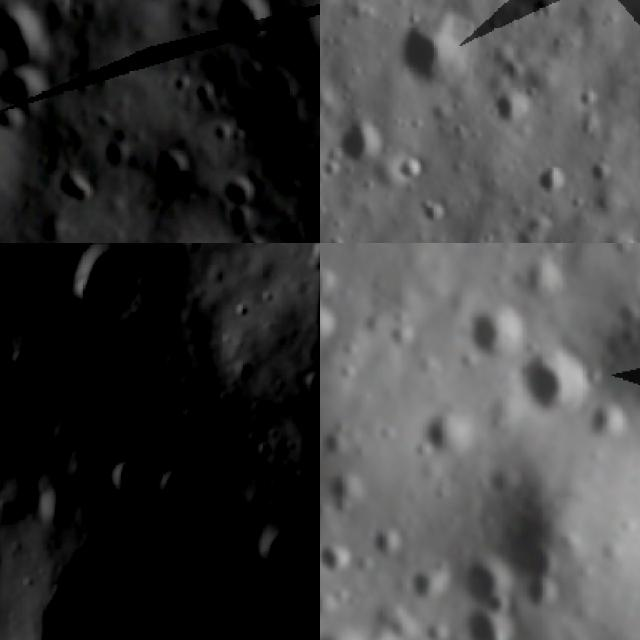crater: (0, 451, 320, 640), (508, 332, 600, 434), (388, 9, 477, 98), (66, 249, 159, 328), (456, 293, 538, 370), (157, 451, 219, 532), (446, 546, 516, 607), (102, 448, 162, 510), (330, 114, 394, 172), (320, 461, 375, 525), (580, 396, 640, 451), (0, 67, 52, 128), (418, 408, 470, 467), (0, 11, 51, 69), (445, 603, 524, 640), (480, 88, 536, 138), (217, 0, 272, 49), (53, 163, 100, 215), (38, 492, 85, 538), (365, 522, 409, 567), (320, 533, 357, 582), (149, 147, 190, 191), (214, 176, 270, 207), (532, 163, 570, 203), (392, 149, 427, 192), (572, 82, 607, 121), (415, 197, 452, 232), (301, 186, 320, 243), (582, 159, 616, 190), (320, 262, 341, 309), (320, 301, 338, 354)
